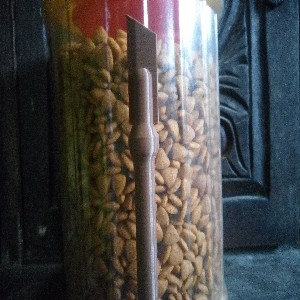cutter: (123, 12, 161, 300)
